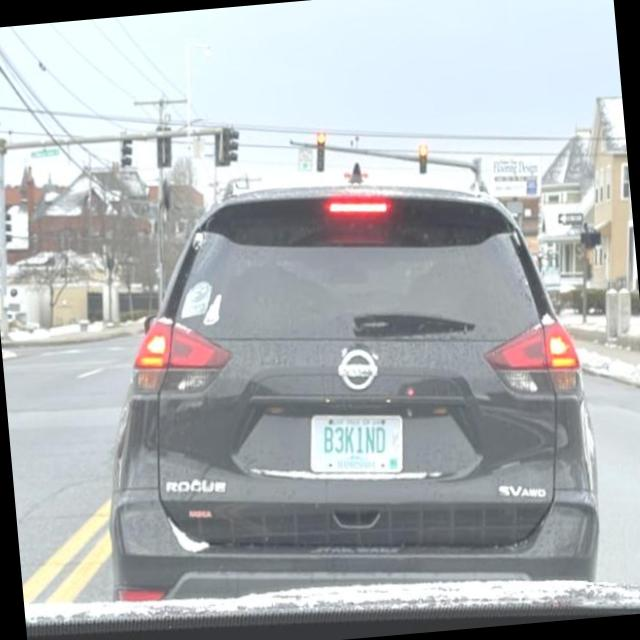LicensePlate: (308, 413, 403, 472)
